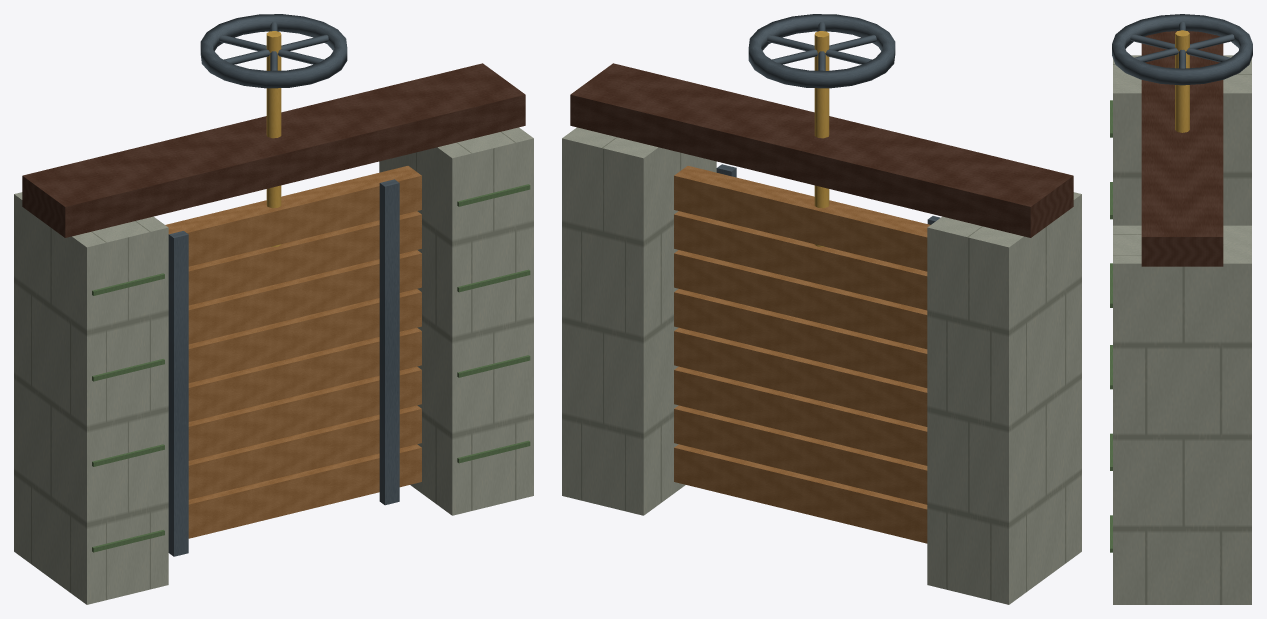
File: sluice_gate.glb
The picture shows the model from 3 angles, left to right: view 1: azimuth 30°, elevation 25°; view 2: azimuth 150°, elevation 25°; view 3: azimuth 270°, elevation 25°; orthographic projection. The views are drawn at different scales.
Visible parts, largest first — view 1: sluice_gate; view 2: sluice_gate; view 3: sluice_gate.
Part boxes in pixels (left/top/right/bottom): sluice_gate: left=14, top=14, right=533, bottom=604; sluice_gate: left=562, top=14, right=1081, bottom=604; sluice_gate: left=1110, top=14, right=1252, bottom=604.
Size of the model in its own units: 3.1 by 3.15 by 0.872.
6 materials, 6 textured.
